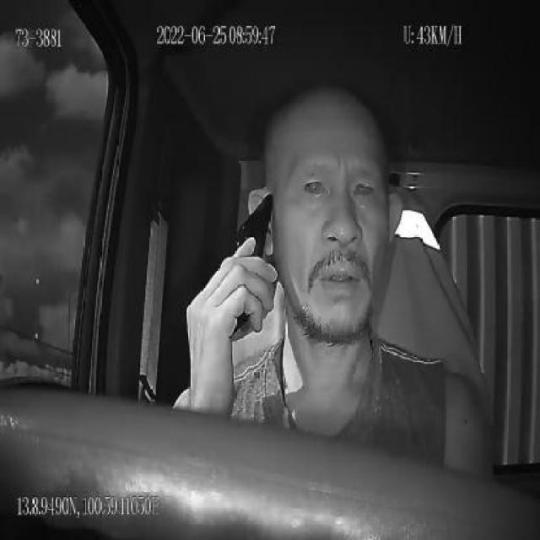phone: (230, 192, 274, 344)
